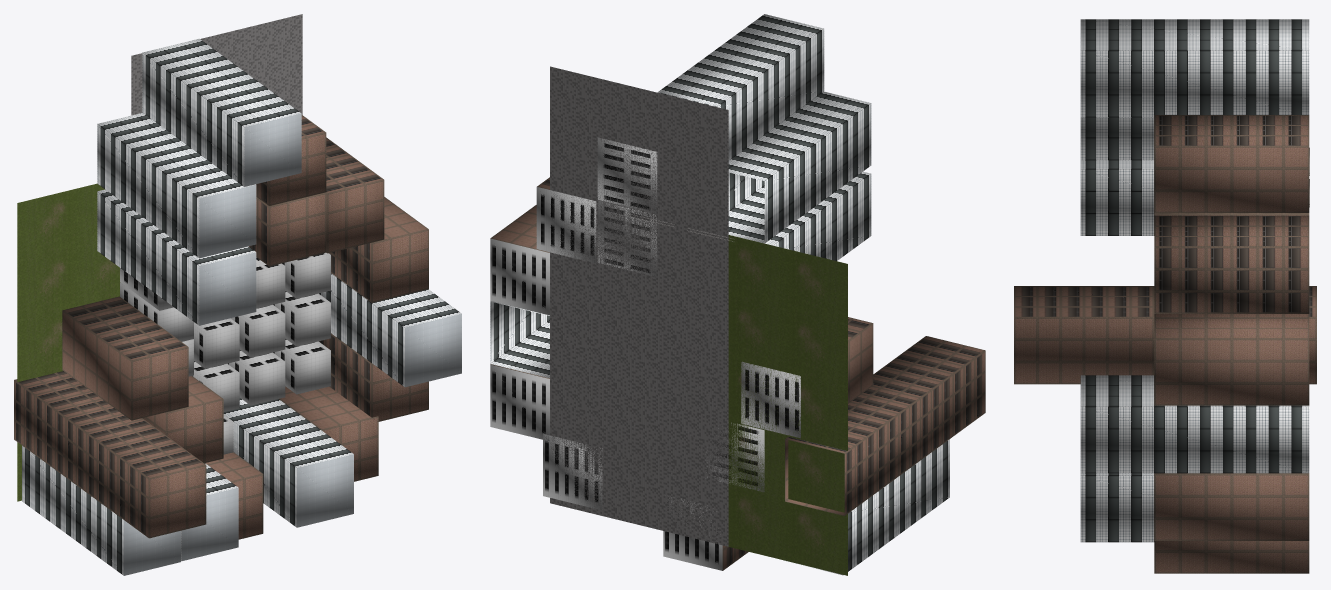
Rendered from stage-ext-1.fbx.
3 views of the same model, side by side, from view 1: azimuth 30°, elevation 25°; view 2: azimuth 150°, elevation 25°; view 3: azimuth 270°, elevation 25° (orthographic). The views are drawn at different scales.
Parts seen in each view (by area): view 1: Ground_001; view 2: Ground_001; view 3: Ground_001.
Part boxes in pixels (x1=…): Ground_001: x1=14, y1=14, x2=461, y2=575; Ground_001: x1=490, y1=14, x2=985, y2=575; Ground_001: x1=1014, y1=19, x2=1316, y2=573.
Size of the model in its own units: 60 by 74.2 by 41.
12 materials, 12 textured.
